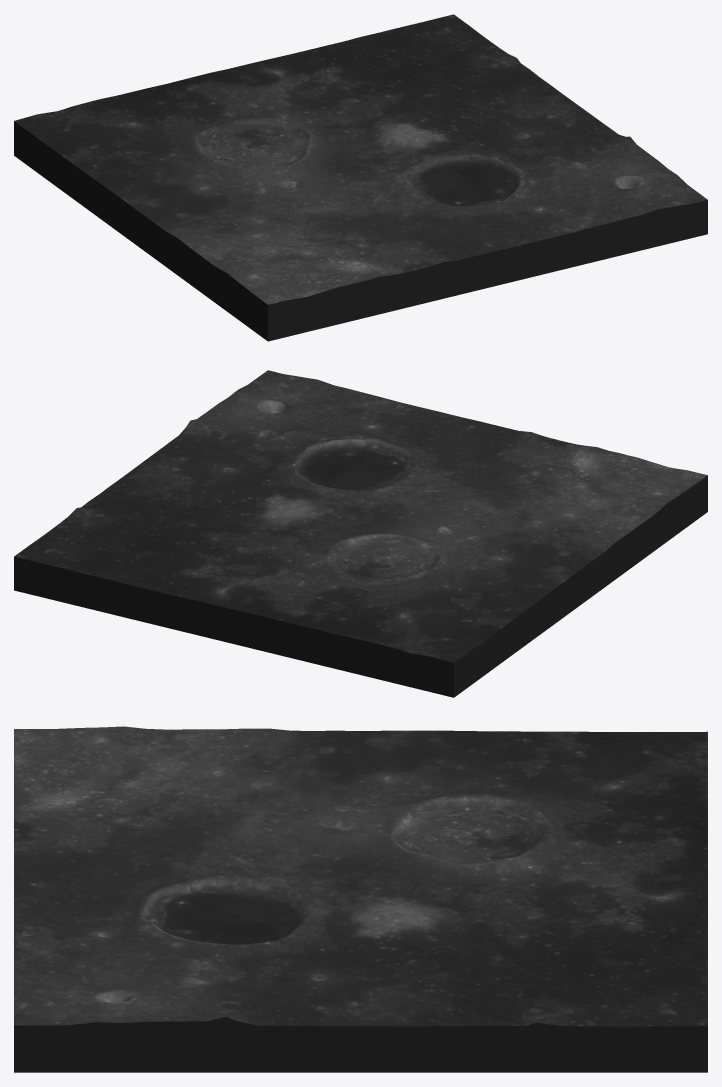
The picture shows the model from 3 angles, top to bottom: view 1: azimuth 30°, elevation 25°; view 2: azimuth 150°, elevation 25°; view 3: azimuth 270°, elevation 25°; orthographic projection. The views are drawn at different scales.
Visible parts, largest first — view 1: Moon; view 2: Moon; view 3: Moon.
Boxes of the visible parts, x1=… form: Moon: x1=14, y1=14, x2=707, y2=341; Moon: x1=14, y1=370, x2=707, y2=697; Moon: x1=14, y1=726, x2=707, y2=1072.
Bounding box in the file's own units: 1998 × 181 × 1998.
2 materials, 1 textured.
